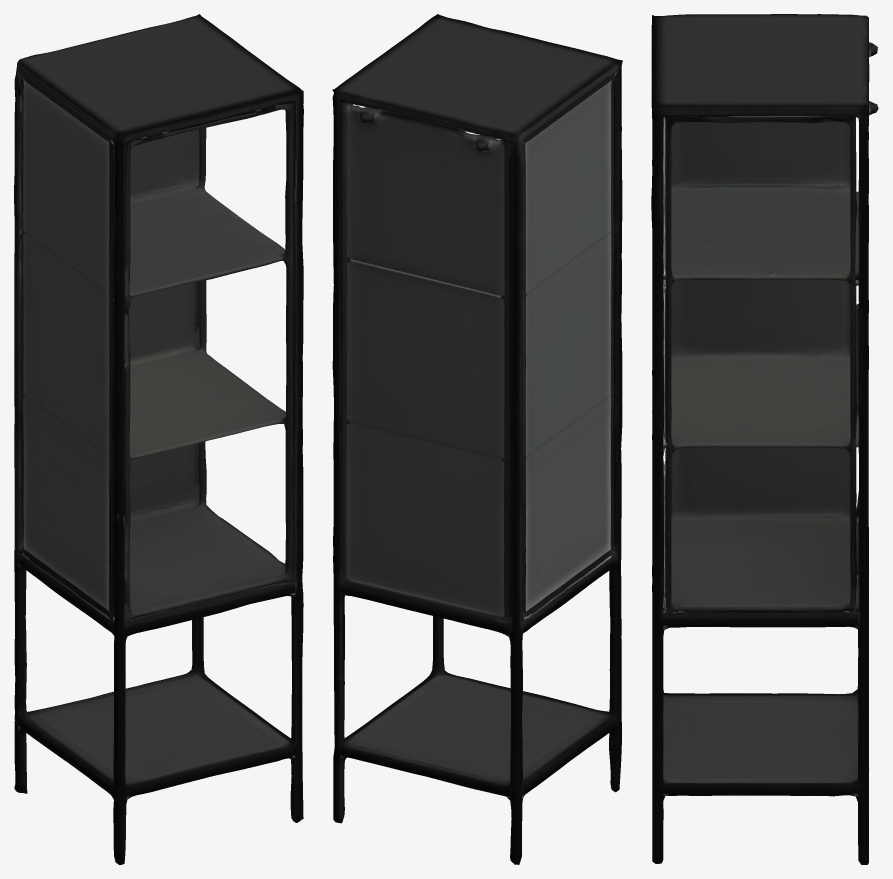
File: rudsta-cabinet.glb
3 views of the same model, side by side, from view 1: azimuth 30°, elevation 25°; view 2: azimuth 150°, elevation 25°; view 3: azimuth 270°, elevation 25° (orthographic). The views are drawn at different scales.
Visible parts, largest first — view 1: tripo_node_7fc1865f-06be-4239-80af-c94456debaba; view 2: tripo_node_7fc1865f-06be-4239-80af-c94456debaba; view 3: tripo_node_7fc1865f-06be-4239-80af-c94456debaba.
Boxes of the visible parts, x1,y1,x2,y2 form: tripo_node_7fc1865f-06be-4239-80af-c94456debaba: (14, 14, 303, 864); tripo_node_7fc1865f-06be-4239-80af-c94456debaba: (332, 14, 622, 864); tripo_node_7fc1865f-06be-4239-80af-c94456debaba: (651, 14, 878, 864).
Size of the model in its own units: 0.414 by 1.55 by 0.4199.
1 material, 1 textured.
